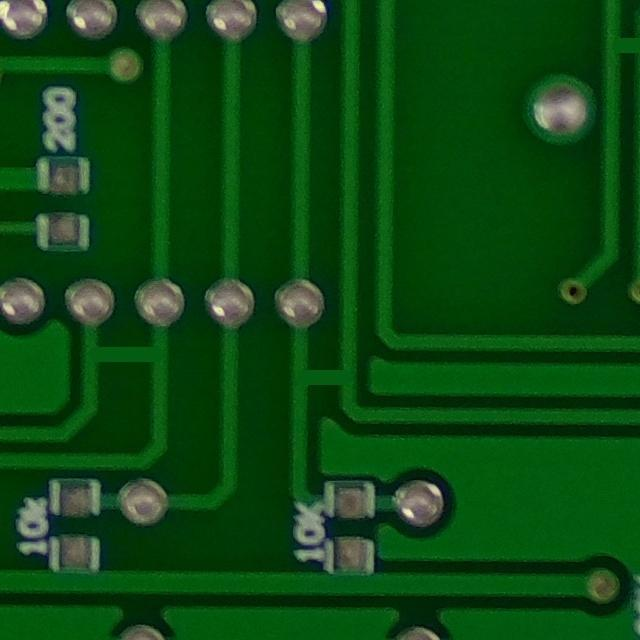short: (70, 322, 187, 383), (282, 353, 366, 414), (593, 22, 640, 74)
